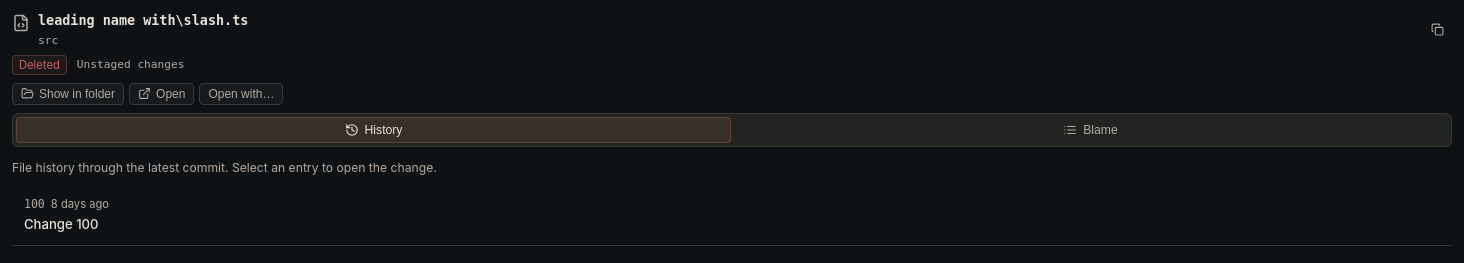
Scenario: shared working-file details › keeps deleted files inspectable and reports unavailable blame without reading missing content
The width and height of the screenshot is (1464, 263).
Expected: the text with class "commit-file-details__status" reads "Deleted", x1=19 y1=58 x2=60 y2=72
Expected: the number of buttons with class "file-history-entry" is 1, x1=12 y1=187 x2=1442 y2=235
Step 1. Click the button "Blame" → [1090, 130], box x1=733 y1=117 x2=1448 y2=143
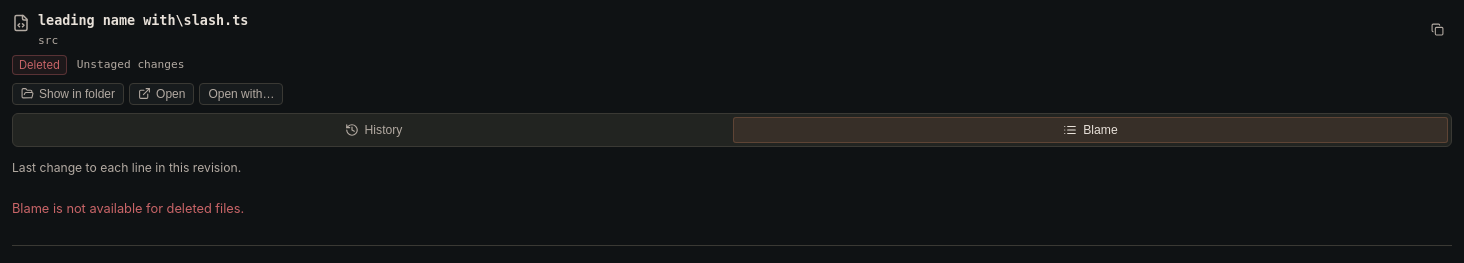
Now the message "Blame is not available for deleted files." is shown, box x1=12 y1=201 x2=244 y2=216
